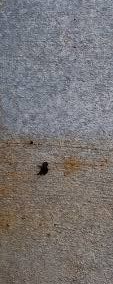Spalling: (36, 160, 49, 176)
